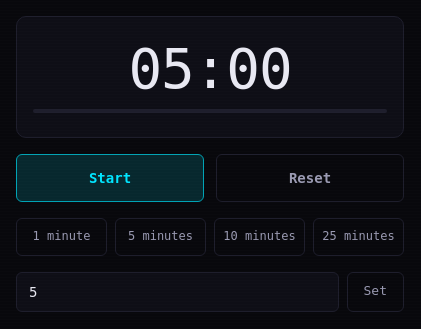
Test case: Timer › carries on from where it was paused
The width and height of the screenshot is (421, 329).
Click the button "Start": [110, 178] box left=16, top=154, right=204, bottom=202
Wait 3000 ms
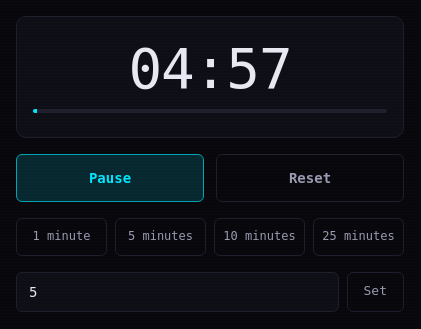
Click the button "Pause": [110, 178] box left=16, top=154, right=204, bottom=202
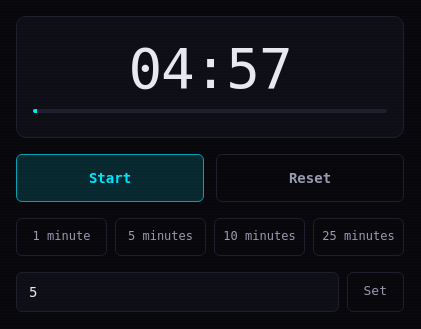
Click the button "Start": [110, 178] box left=16, top=154, right=204, bottom=202
Wait 2000 ms
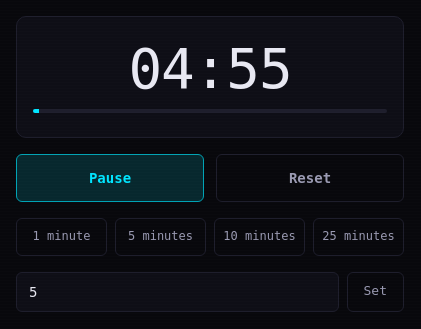
Expected: the text named "time remaining" reads "04:55", left=128, top=36, right=292, bottom=101
